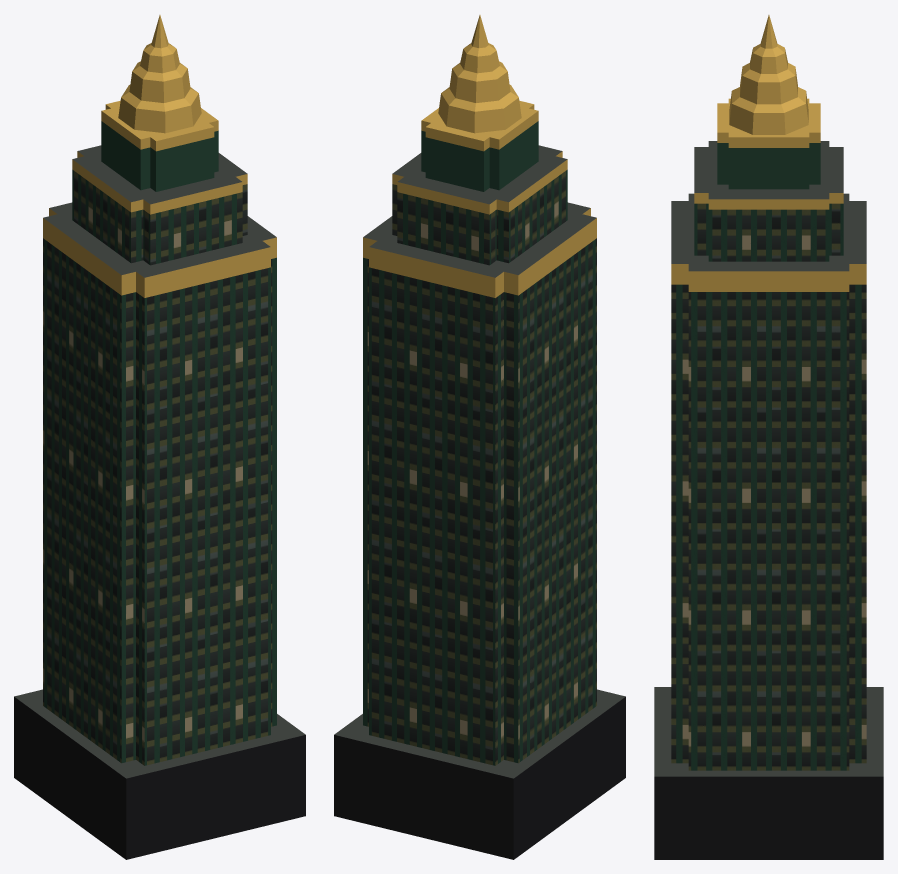
Rendered from carbide_carbon.glb.
The picture shows the model from 3 angles, left to right: view 1: azimuth 30°, elevation 25°; view 2: azimuth 150°, elevation 25°; view 3: azimuth 270°, elevation 25°; orthographic projection. The views are drawn at different scales.
Parts seen in each view (by area): view 1: carbide_carbon; view 2: carbide_carbon; view 3: carbide_carbon.
Part boxes in pixels (left/top/right/bottom): carbide_carbon: left=14, top=15, right=305, bottom=859; carbide_carbon: left=334, top=15, right=625, bottom=859; carbide_carbon: left=654, top=15, right=883, bottom=859.
Bounding box in the file's own units: 37 × 154 × 40.
2 materials, 2 textured.
